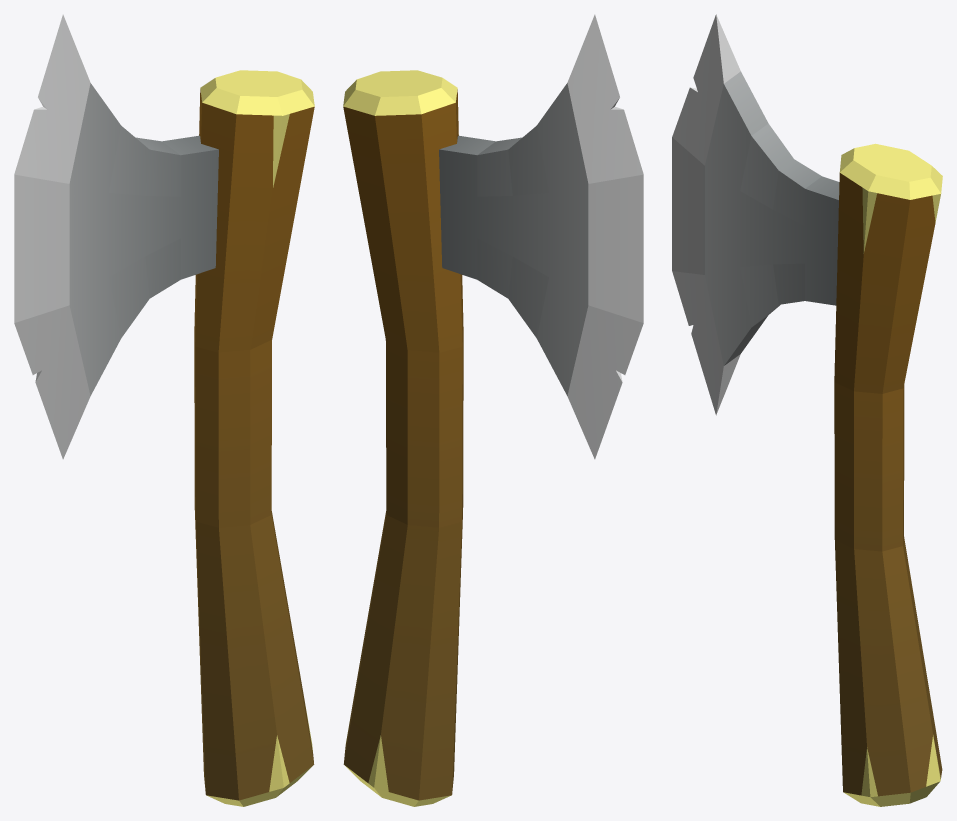
The model's file is axe_1.glb.
3 renders of one model, left to right at view 1: azimuth 30°, elevation 25°; view 2: azimuth 150°, elevation 25°; view 3: azimuth 330°, elevation 25°, orthographic. The views are drawn at different scales.
Parts seen in each view (by area): view 1: axe_1; view 2: axe_1; view 3: axe_1.
Part boxes in pixels (x1=…): axe_1: x1=14, y1=14, x2=314, y2=806; axe_1: x1=343, y1=14, x2=643, y2=806; axe_1: x1=672, y1=14, x2=942, y2=806.
Bounding box in the file's own units: 0.1775 × 0.4709 × 0.0526.
1 material, 1 textured.
